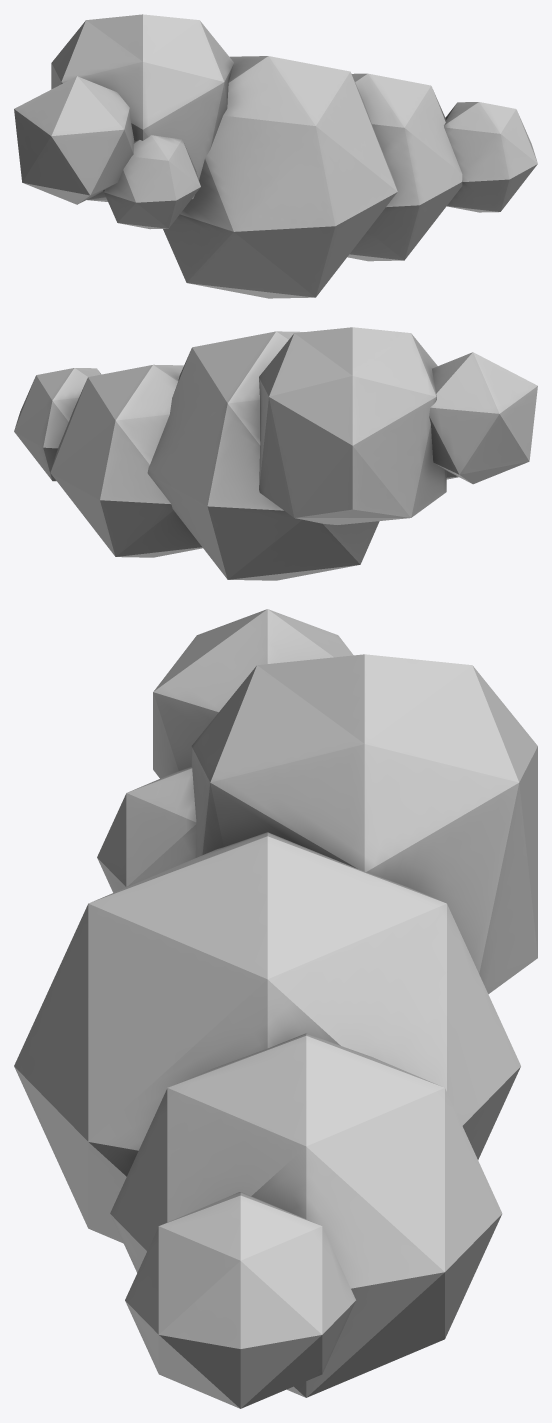
File: Cloud_19.fbx
3 renders of one model, top to bottom at view 1: azimuth 30°, elevation 25°; view 2: azimuth 150°, elevation 25°; view 3: azimuth 270°, elevation 25°, orthographic. The views are drawn at different scales.
Parts seen in each view (by area): view 1: Cloud_19; view 2: Cloud_19; view 3: Cloud_19.
Part boxes in pixels (left/top/right/bottom): Cloud_19: left=14, top=14, right=537, bottom=298; Cloud_19: left=14, top=327, right=537, bottom=580; Cloud_19: left=14, top=609, right=537, bottom=1408.
Bounding box in the file's own units: 85.05 × 46.86 × 40.52.
